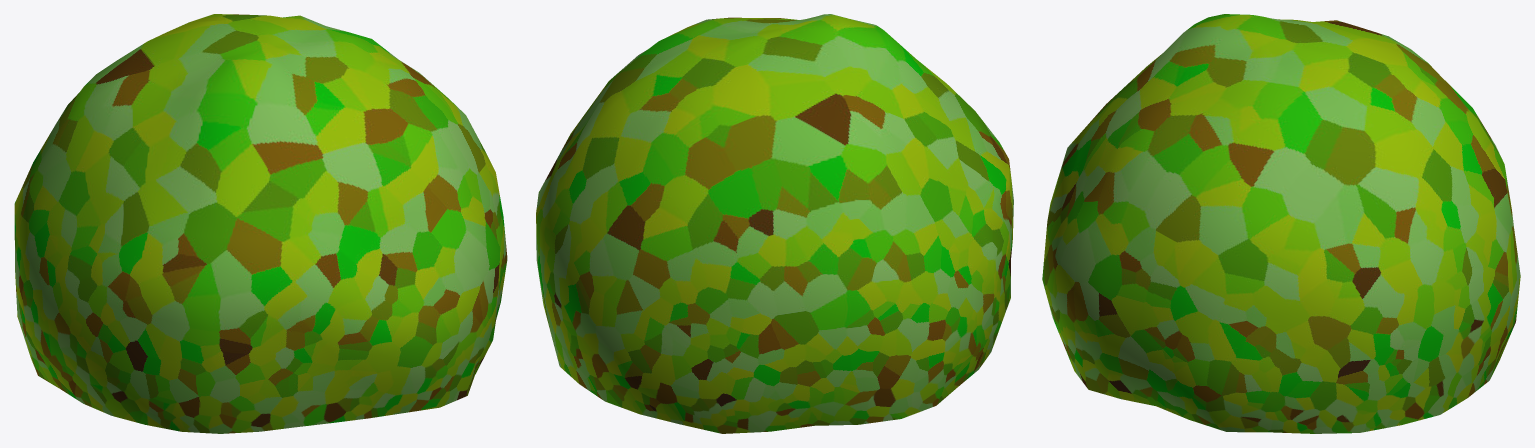
The model's file is Shrub.fbx.
3 renders of one model, left to right at view 1: azimuth 30°, elevation 25°; view 2: azimuth 150°, elevation 25°; view 3: azimuth 270°, elevation 25°, orthographic. The views are drawn at different scales.
Visible parts, largest first — view 1: Shrub.001; view 2: Shrub.001; view 3: Shrub.001.
Boxes of the visible parts, left/top/right/bottom form: Shrub.001: left=14, top=14, right=507, bottom=433; Shrub.001: left=536, top=14, right=1013, bottom=433; Shrub.001: left=1042, top=14, right=1520, bottom=433.
Size of the model in its own units: 1.57 by 1.15 by 1.6.
